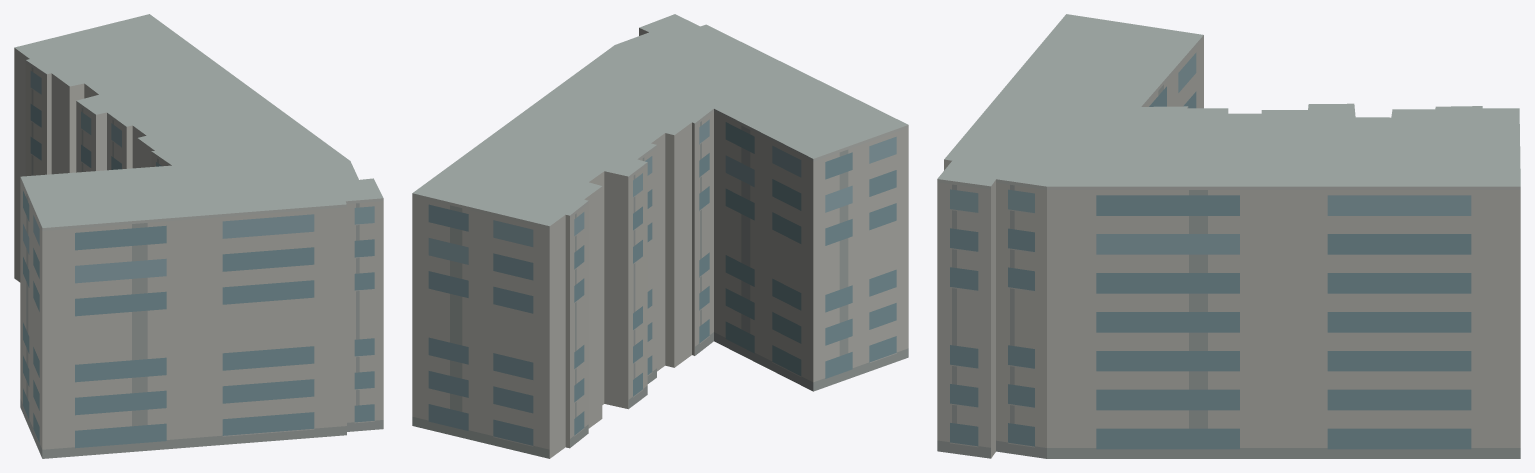
Rendered from survey-upis-32837020.glb.
The picture shows the model from 3 angles, left to right: view 1: azimuth 30°, elevation 25°; view 2: azimuth 150°, elevation 25°; view 3: azimuth 270°, elevation 25°; orthographic projection. The views are drawn at different scales.
Parts seen in each view (by area): view 1: survey-upis-32837020.tmp; view 2: survey-upis-32837020.tmp; view 3: survey-upis-32837020.tmp.
Part boxes in pixels (x1,y1,x2,y2): survey-upis-32837020.tmp: (14, 14, 383, 458); survey-upis-32837020.tmp: (412, 14, 908, 458); survey-upis-32837020.tmp: (937, 14, 1520, 458).
Bounding box in the file's own units: 25.98 × 19.1 × 37.11.
